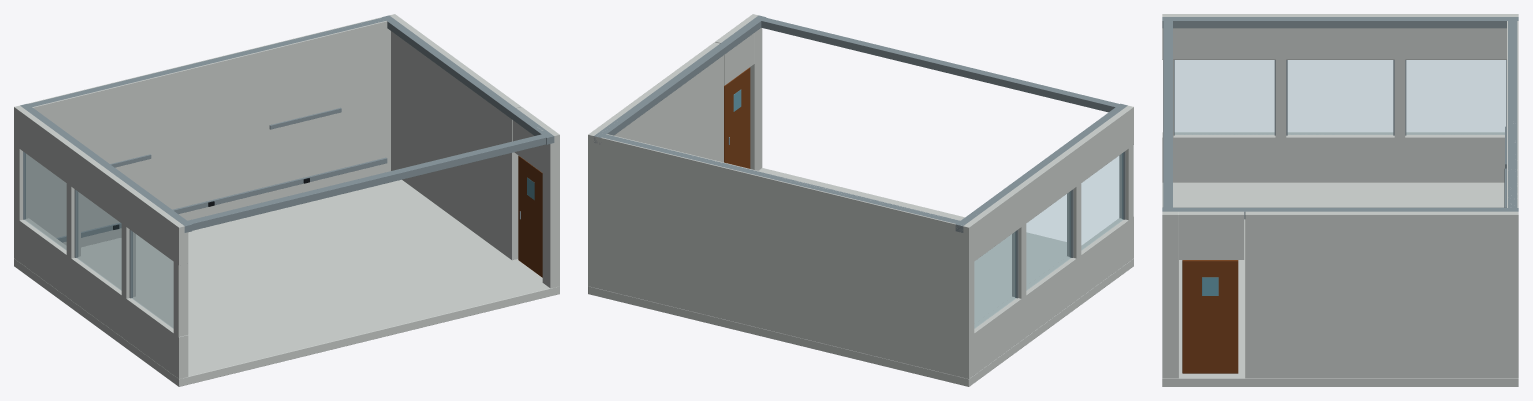
The picture shows the model from 3 angles, left to right: view 1: azimuth 30°, elevation 25°; view 2: azimuth 150°, elevation 25°; view 3: azimuth 270°, elevation 25°; orthographic projection. The views are drawn at different scales.
Visible parts, largest first — view 1: FLOOR, WALL_Back, WALL_RightRear, WINDOW_Band, WINDOW_Band.001, CEILING_EndBeam.001, WINDOW_Clear.001, WINDOW_Clear.002, WINDOW_Clear, WALL_RightFront, DOOR_Panel, CEILING_EdgeBeam (+8 smaller); view 2: WALL_Back, FLOOR, WINDOW_Band, WINDOW_Band.001, WALL_RightRear, CEILING_EndBeam.001, WINDOW_Clear.001, WINDOW_Clear, WINDOW_Clear.002, CEILING_EdgeBeam, DOOR_Panel, CEILING_EndBeam (+7 smaller); view 3: WALL_RightRear, WINDOW_Band, FLOOR, WINDOW_Band.001, WINDOW_Clear.001, WINDOW_Clear, WINDOW_Clear.002, DOOR_Panel, CEILING_EdgeBeam.001, DOOR_Header, WALL_RightFront, WALL_Back (+6 smaller).
Boxes of the visible parts, <box> form: FLOOR: <box>14,179,559,386</box>; WALL_Back: <box>14,14,399,247</box>; WALL_RightRear: <box>391,14,521,260</box>; WINDOW_Band: <box>14,217,188,378</box>; WINDOW_Band.001: <box>14,107,188,265</box>; CEILING_EndBeam.001: <box>187,134,549,230</box>; WINDOW_Clear.001: <box>77,191,121,290</box>; WINDOW_Clear.002: <box>24,153,66,249</box>; WINDOW_Clear: <box>132,232,173,328</box>; WALL_RightFront: <box>542,129,559,288</box>; DOOR_Panel: <box>518,155,542,277</box>; CEILING_EdgeBeam: <box>382,15,554,144</box>; WALL_Back: <box>588,130,974,378</box>; FLOOR: <box>588,168,1133,386</box>; WINDOW_Band: <box>959,217,1133,374</box>; WINDOW_Band.001: <box>959,105,1133,264</box>; WALL_RightRear: <box>594,42,723,162</box>; CEILING_EndBeam.001: <box>760,17,1123,112</box>; WINDOW_Clear.001: <box>1026,191,1070,290</box>; WINDOW_Clear: <box>1081,153,1123,249</box>; WINDOW_Clear.002: <box>974,232,1015,328</box>; CEILING_EdgeBeam: <box>593,15,765,144</box>; DOOR_Panel: <box>724,67,750,168</box>; CEILING_EndBeam: <box>598,134,960,224</box>; WALL_RightRear: <box>1245,211,1518,378</box>; WINDOW_Band: <box>1162,132,1504,182</box>; FLOOR: <box>1162,182,1518,386</box>; WINDOW_Band.001: <box>1162,14,1518,59</box>; WINDOW_Clear.001: <box>1288,60,1392,134</box>; WINDOW_Clear: <box>1175,60,1274,134</box>; WINDOW_Clear.002: <box>1406,60,1505,134</box>; DOOR_Panel: <box>1182,260,1238,373</box>; CEILING_EdgeBeam.001: <box>1162,17,1518,28</box>; DOOR_Header: <box>1179,211,1244,259</box>; WALL_RightFront: <box>1162,211,1178,378</box>; WALL_Back: <box>1507,14,1518,378</box>.
Size of the model in its own units: 8 by 3.2 by 6.
